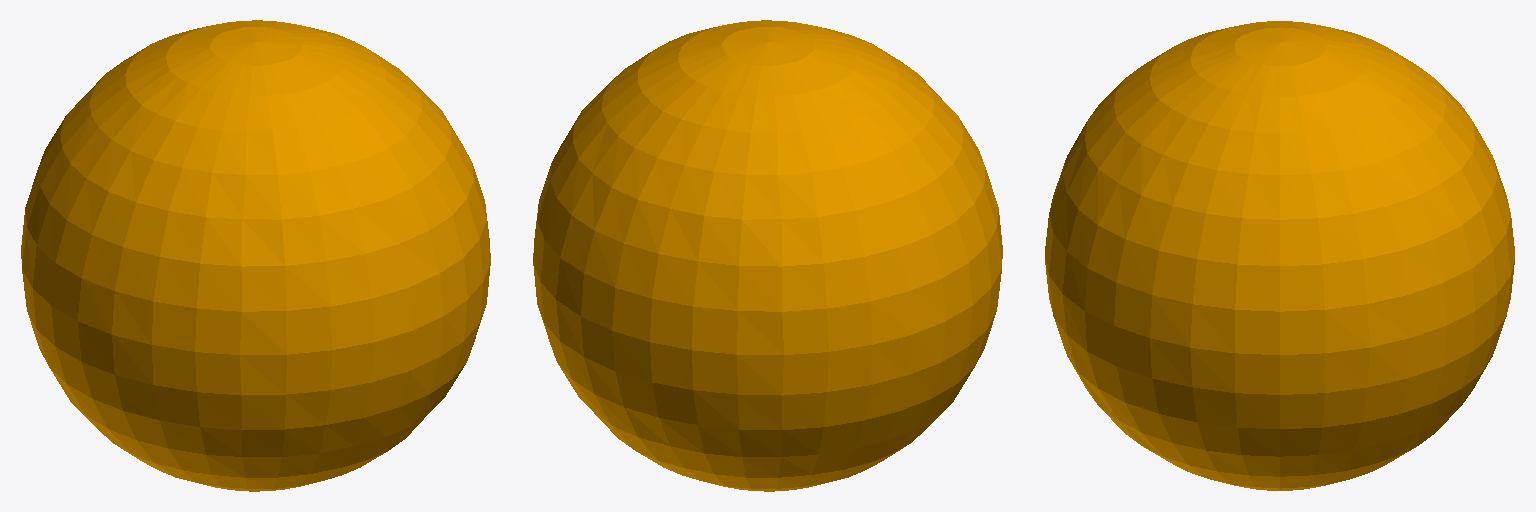
robot.urdf — light_room6:
<?xml version="1.0" ?>

<robot name="light_room6" xmlns:xi="http://www.w3.org/2001/XInclude"
	xmlns:gazebo="http://playerstage.sourceforge.net/gazebo/xmlschema/#gz"
	xmlns:model="http://playerstage.sourceforge.net/gazebo/xmlschema/#model"
	xmlns:sensor="http://playerstage.sourceforge.net/gazebo/xmlschema/#sensor"
	xmlns:body="http://playerstage.sourceforge.net/gazebo/xmlschema/#body"
	xmlns:geom="http://playerstage.sourceforge.net/gazebo/xmlschema/#geom"
	xmlns:joint="http://playerstage.sourceforge.net/gazebo/xmlschema/#joint"
	xmlns:interface="http://playerstage.sourceforge.net/gazebo/xmlschema/#interface"
	xmlns:rendering="http://playerstage.sourceforge.net/gazebo/xmlschema/#rendering"
	xmlns:renderable="http://playerstage.sourceforge.net/gazebo/xmlschema/#renderable"
	xmlns:controller="http://playerstage.sourceforge.net/gazebo/xmlschema/#controller"
	xmlns:physics="http://playerstage.sourceforge.net/gazebo/xmlschema/#physics">

  <link name="bulb_r6">
   <inertial>
	<mass value="1" />
			<com xyz="6 12.25 2.22" />
			<inertia ixx="0" ixy="0.0" ixz="0.0" iyy="0" iyz="0.0" izz="0" />
		</inertial>

		<visual>
			<origin xyz="6 12.25 2.22" rpy="0 0 0" />  <!--   definition of the visual postion of the object!! -->
			<geometry>
				<sphere radius="0.0001" />
			</geometry>
		</visual>
		<collision>
			<origin xyz="6 12.25 2.22" rpy="0 0 0" />
			<geometry>
				<sphere radius="0.0001" />
			</geometry>
		</collision>
	</link>

	<gazebo reference="bulb_r6">
		<model:renderable name="light_r6">
			<xyz>6 12.25 2.22</xyz>
			<static>true</static>
			<light>
				<type>point</type>
				<diffuseColor>0.1 0.1 0.1</diffuseColor>
				<specularColor>.01 .01 .01</specularColor>
				<attenuation>0.1 0.1 0.0001</attenuation>
				<range>4</range>
			</light>
		</model:renderable>
	</gazebo>
</robot>

--- Facts derived from the render (not from the file) ---
Views: 3 orthographic renders of the robot side by side, from view 1: azimuth 30°, elevation 25°; view 2: azimuth 150°, elevation 25°; view 3: azimuth 270°, elevation 25°.
Robot: light_room6 — 1 links, 0 joints (none); root link bulb_r6; default pose: every joint at zero.
Visible links, largest first — view 1: bulb_r6; view 2: bulb_r6; view 3: bulb_r6.
Boxes of the visible links, x1,y1,x2,y2 form: bulb_r6: (21,20,490,491); bulb_r6: (533,20,1002,491); bulb_r6: (1045,21,1514,490).
Bounding box of the posed robot: 0.0002 × 0.0002 × 0.0002 m (x, y, z).
Geometry: primitives only (box / cylinder / sphere), no mesh files.